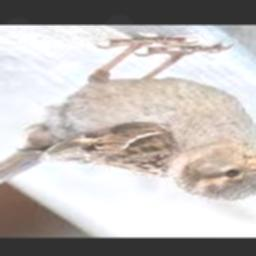Sparrow: (0, 38, 256, 202)
